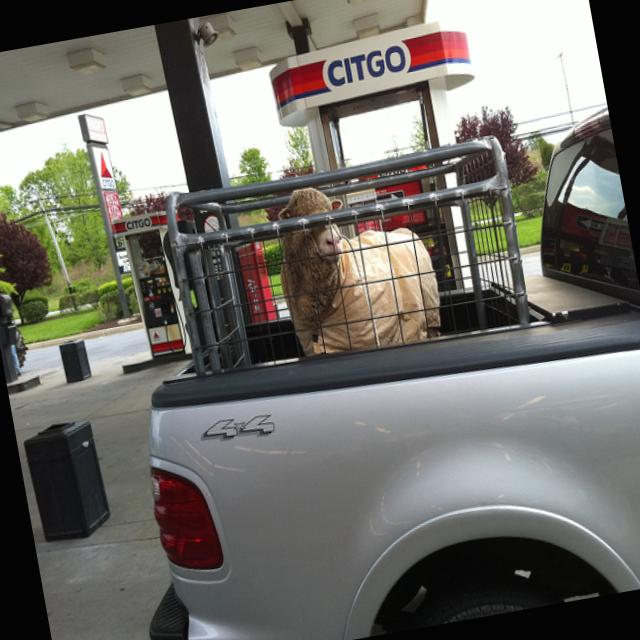Vehicle: (78, 114, 640, 640)
